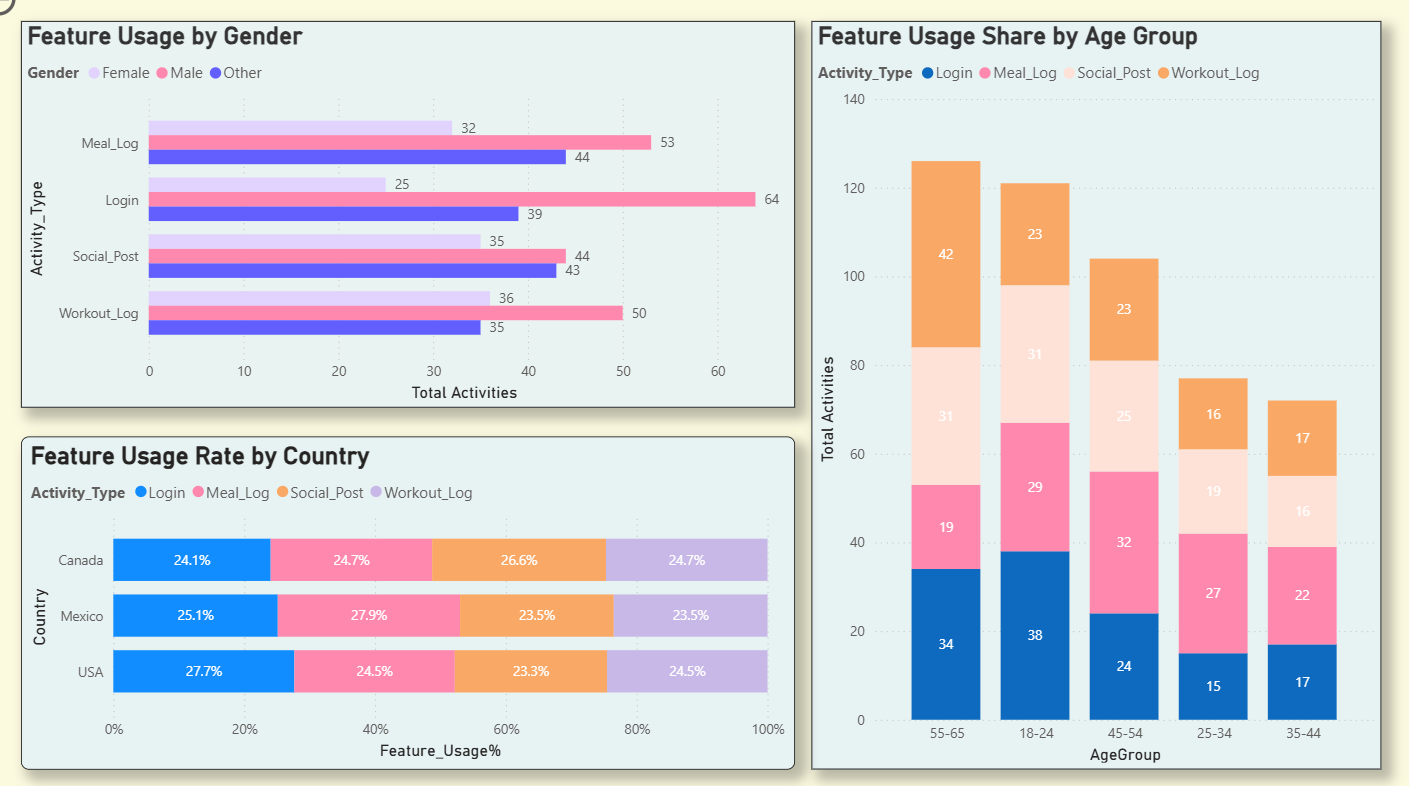

The page's visual inventory and layout, read from the dashboard file:
{"tool":"powerbi","page":{"name":"UX & Personalization Summary","canvas":[1280,720],"ordinal":2},"visuals":[{"type":"clusteredBarChart","title":"Feature Usage by Gender","fields":{"Category":["Activities.Activity_Type"],"Y":["Activities.Total Activities"],"Series":["Users.Gender"]},"box":[39.8,39.8,684.6,342.3],"z":0},{"type":"columnChart","title":"Feature Usage Share by Age Group","fields":{"Category":["Users.AgeGroup"],"Y":["Activities.Total Activities"],"Series":["Activities.Activity_Type"]},"box":[739,39.8,504.2,662.1],"z":1000},{"type":"actionButton","box":[0,0,100,40],"z":2000},{"type":"barChart","title":"Feature Usage Rate by Country ","fields":{"Category":["Users.Country"],"Y":["Activities.Feature_Usage%"],"Series":["Activities.Activity_Type"]},"box":[39.8,407.3,684.6,294.6],"z":3000}]}

Visuals, with their boxes in screenshot pixels (x1, y1, x2, y2), scaled from the page's 1280x720 canvas onto the 1409x786 screenshot:
"Feature Usage by Gender" clusteredBarChart: region(44, 43, 797, 417)
"Feature Usage Share by Age Group" columnChart: region(813, 43, 1368, 766)
actionButton: region(0, 0, 110, 44)
"Feature Usage Rate by Country " barChart: region(44, 445, 797, 766)
